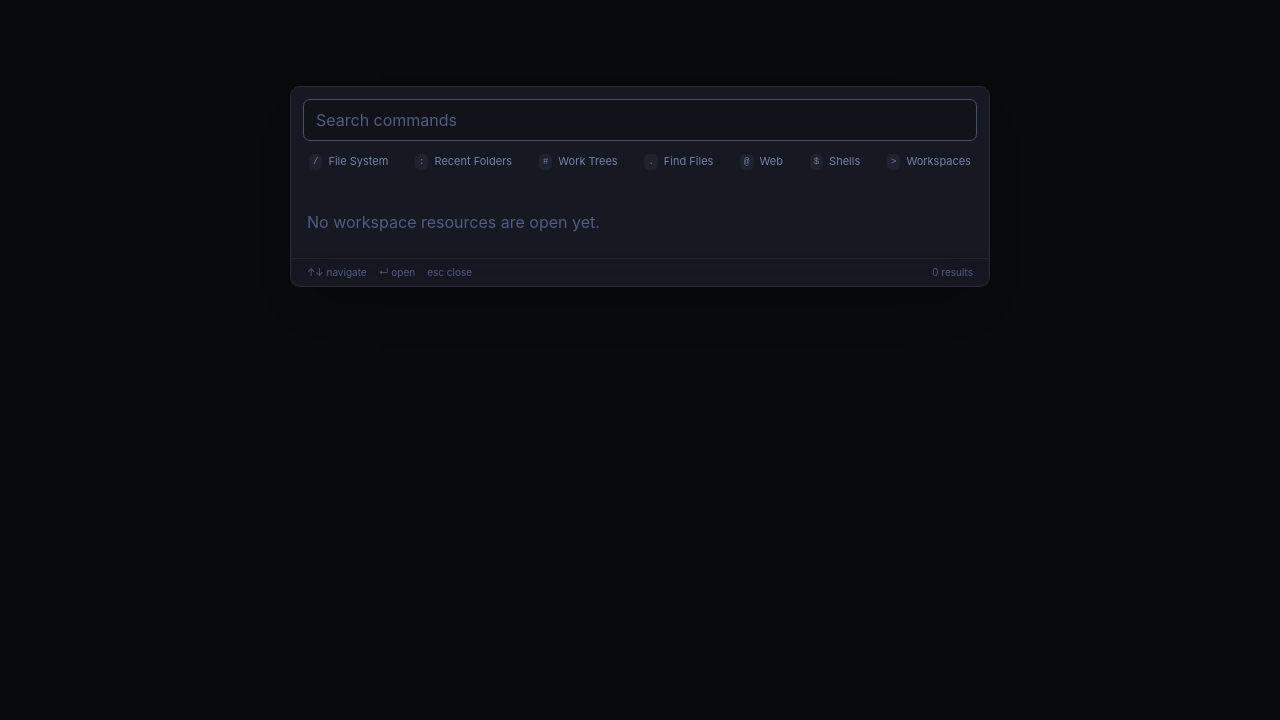
Test: UniversalMenu baseline shell › enters a scoped result list from a quick key and backs out with Escape
The width and height of the screenshot is (1280, 720).
Type "#main" into the field named "Universal menu search".
click(640, 120); type("#main")  # box [316,108,964,132]
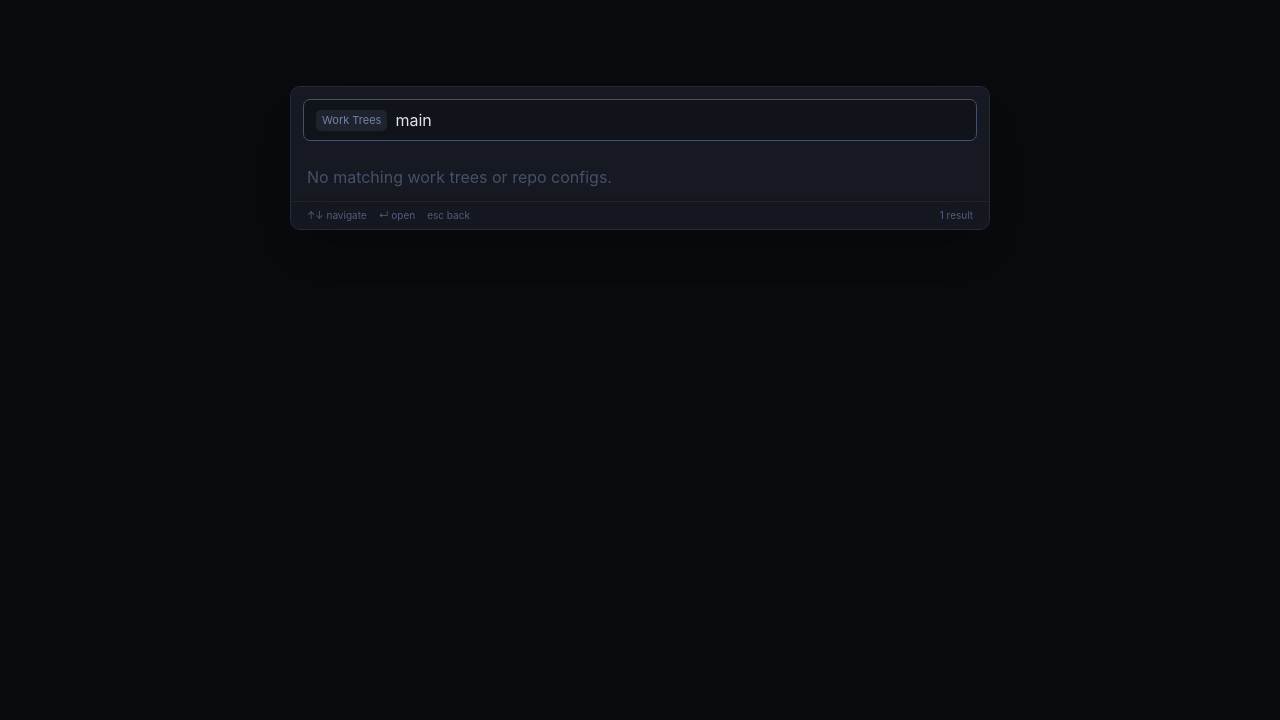
Result: the text "Work Trees" is shown at [316,110,387,131]
Result: the text "No matching work trees or repo configs." is shown at [307,167,612,187]
Result: the field named "Universal menu search" holds "main"
Press Escape in the field named "Universal menu search", box [395,108,964,132]
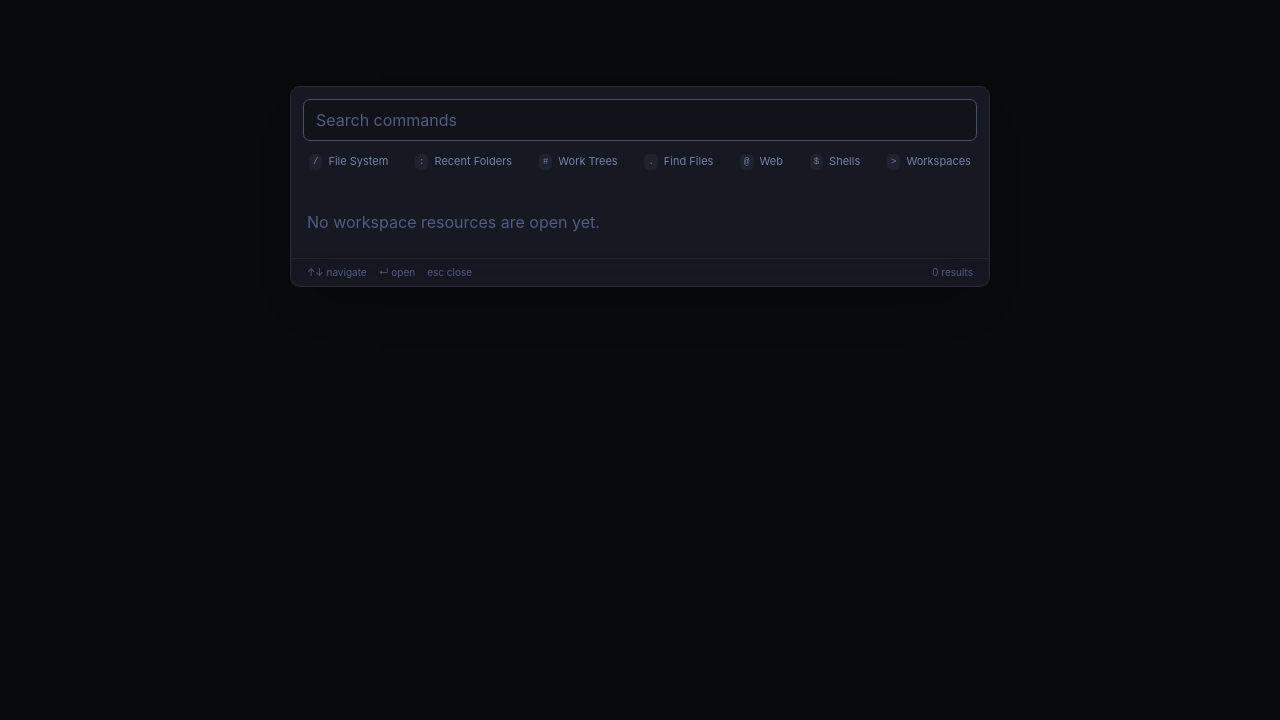
Result: the text "File System" is shown at [328,153,388,170]
Result: the field named "Universal menu search" is empty at [316,108,964,132]
